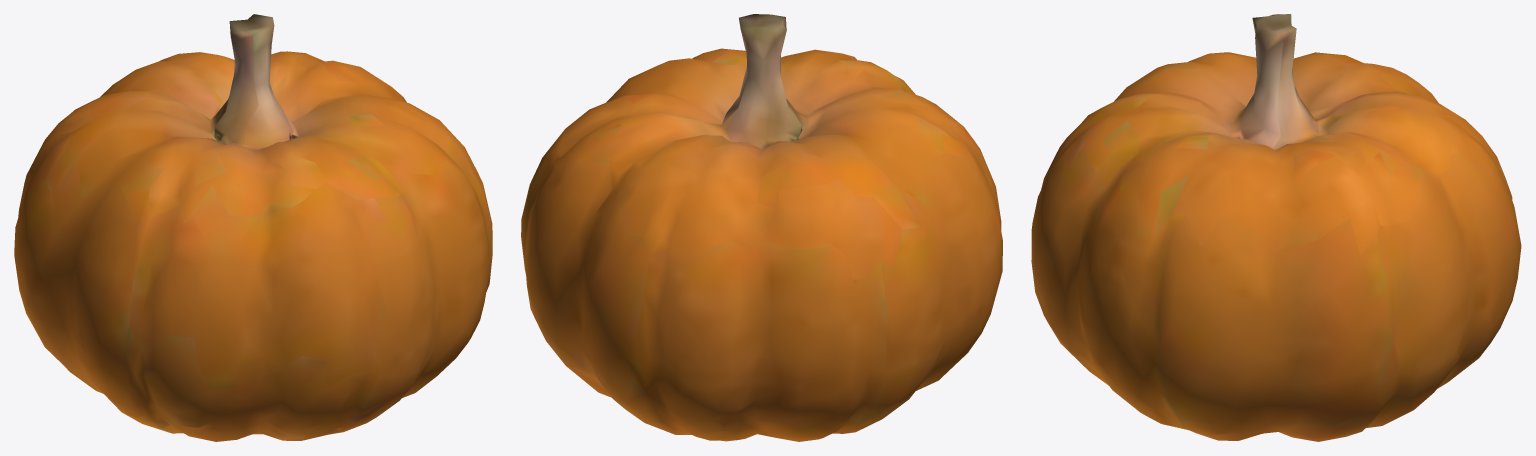
The model's file is abobora.glb.
3 renders of one model, left to right at view 1: azimuth 30°, elevation 25°; view 2: azimuth 150°, elevation 25°; view 3: azimuth 270°, elevation 25°, orthographic.
Parts seen in each view (by area): view 1: abobora; view 2: abobora; view 3: abobora.
Boxes of the visible parts, bbox=[...] form: abobora: bbox=[14, 14, 492, 441]; abobora: bbox=[521, 14, 1002, 441]; abobora: bbox=[1031, 14, 1521, 441].
Bounding box in the file's own units: 0.1563 × 0.1405 × 0.1675.
1 material, 1 textured.
